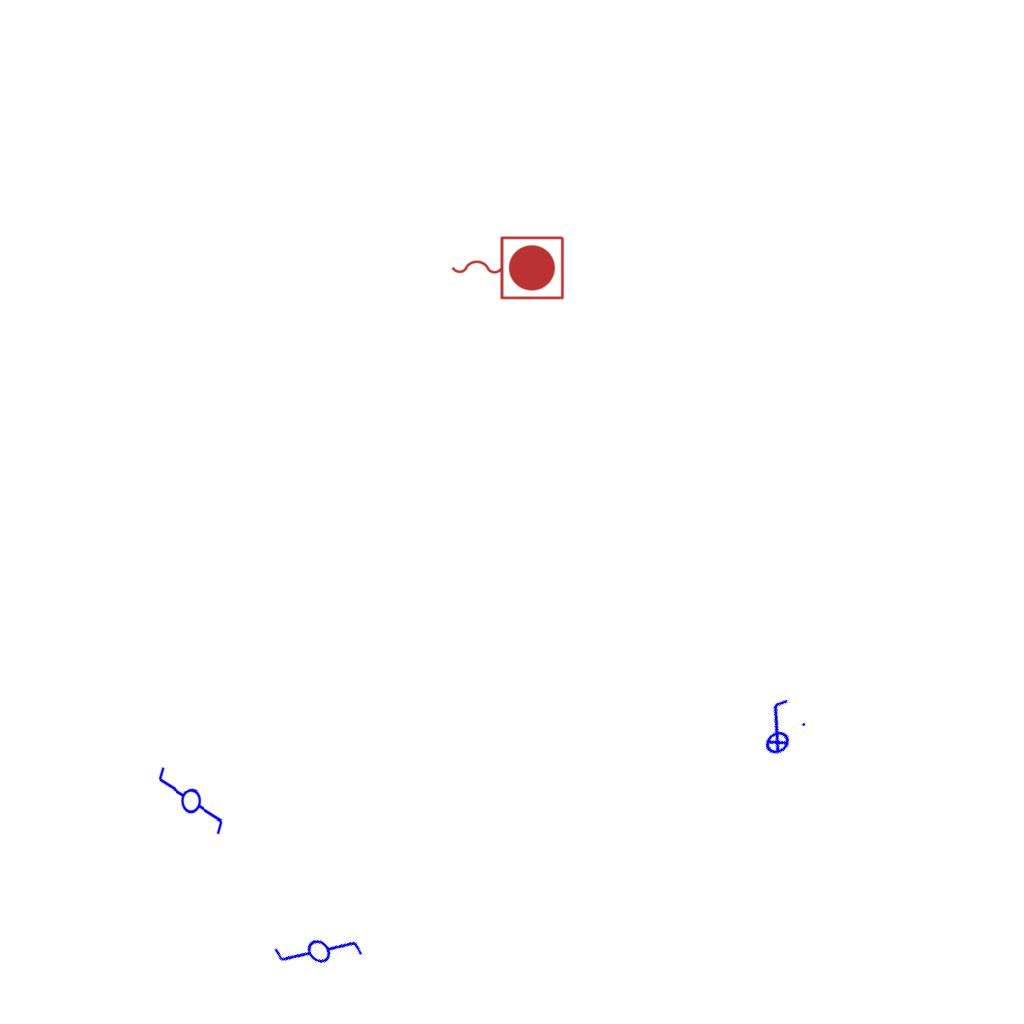Ausschalter_beleuchtet: (740, 691, 814, 763)
Wechselschalter: (267, 901, 375, 1009), (152, 764, 228, 846)
Zugtaster: (446, 231, 568, 303)
